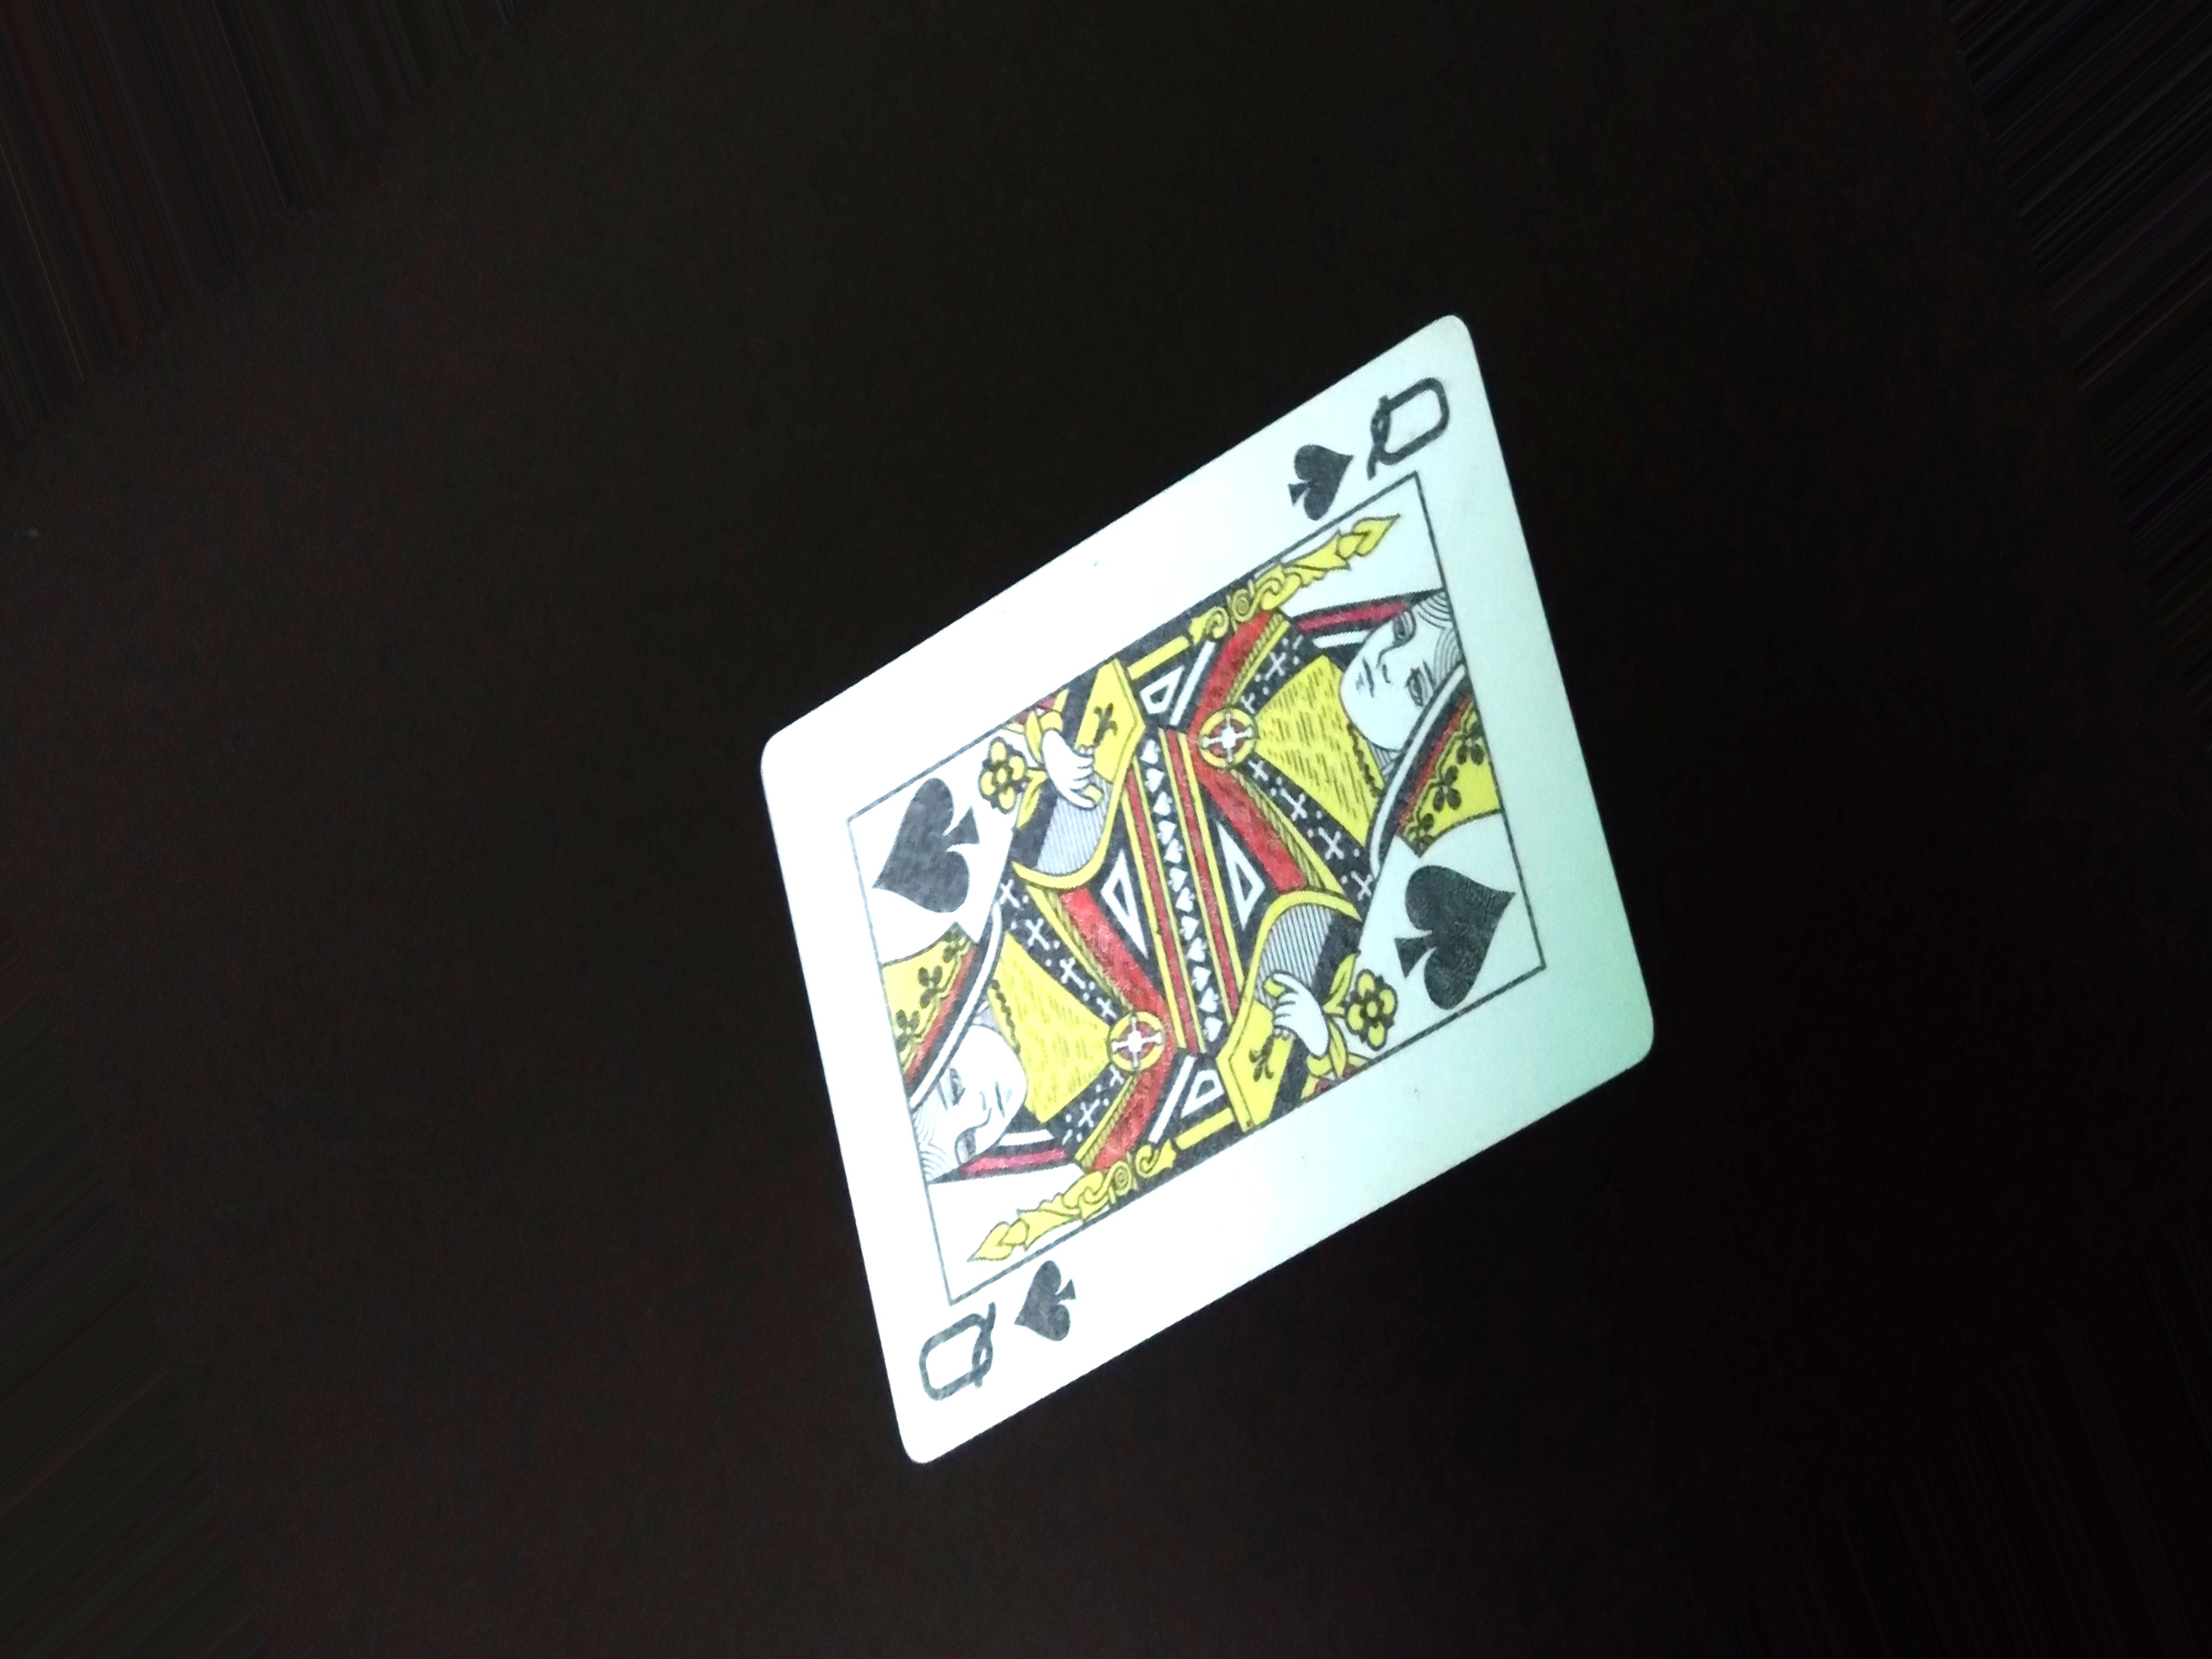QS: (1271, 361, 1446, 544)
